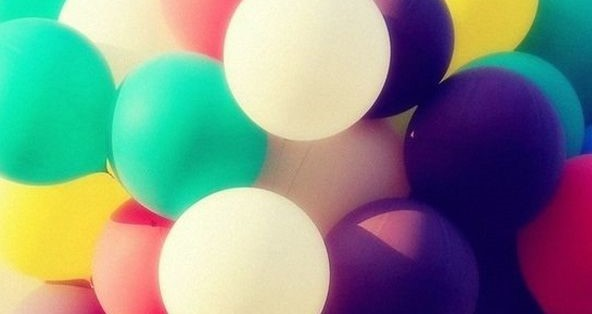Balloon: (405, 66, 564, 230), (112, 53, 267, 216), (222, 1, 391, 144), (156, 187, 330, 314), (325, 196, 480, 314), (1, 16, 107, 187)
